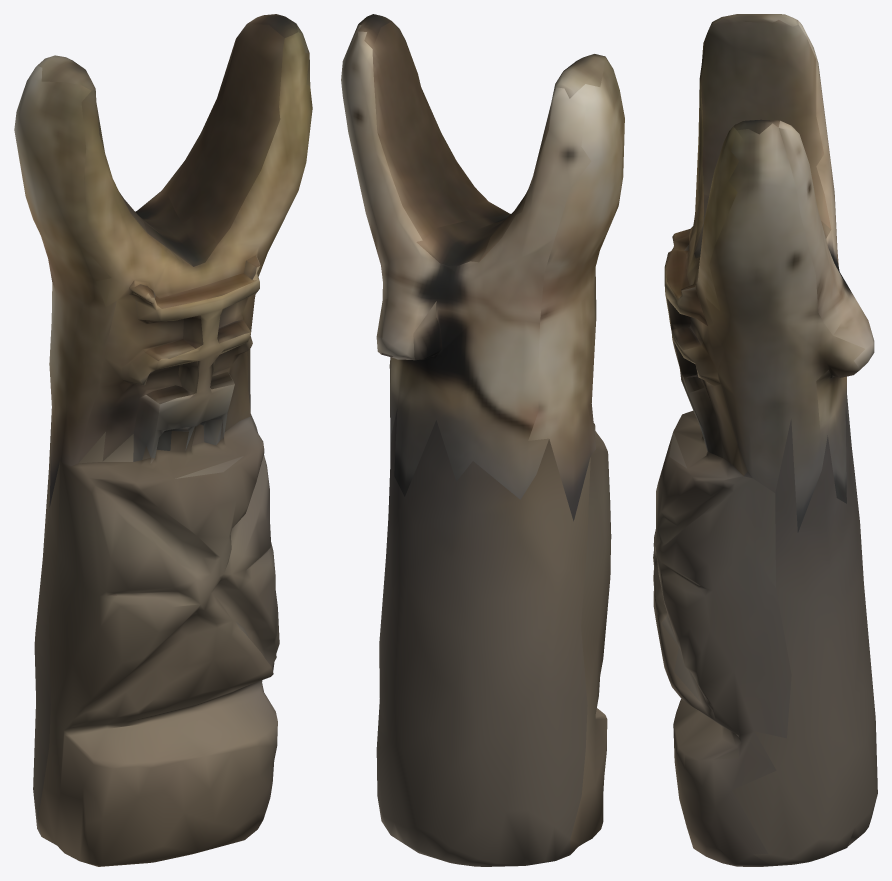
The model's file is pilier_7.glb.
3 renders of one model, left to right at view 1: azimuth 30°, elevation 25°; view 2: azimuth 150°, elevation 25°; view 3: azimuth 270°, elevation 25°, orthographic. The views are drawn at different scales.
Parts seen in each view (by area): view 1: Mesh_0.001; view 2: Mesh_0.001; view 3: Mesh_0.001.
Boxes of the visible parts, left/top/right/bottom form: Mesh_0.001: left=14, top=14, right=312, bottom=866; Mesh_0.001: left=341, top=14, right=624, bottom=866; Mesh_0.001: left=653, top=14, right=877, bottom=866.
Bounding box in the file's own units: 0.411 × 1.13 × 0.2993.
1 material, 1 textured.
